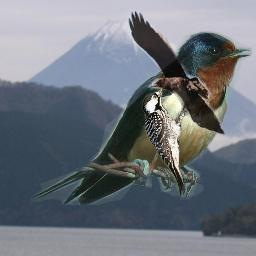Crow: (126, 9, 226, 137)
Swallow: (31, 31, 252, 205)
Woodpecker: (142, 84, 195, 198)
